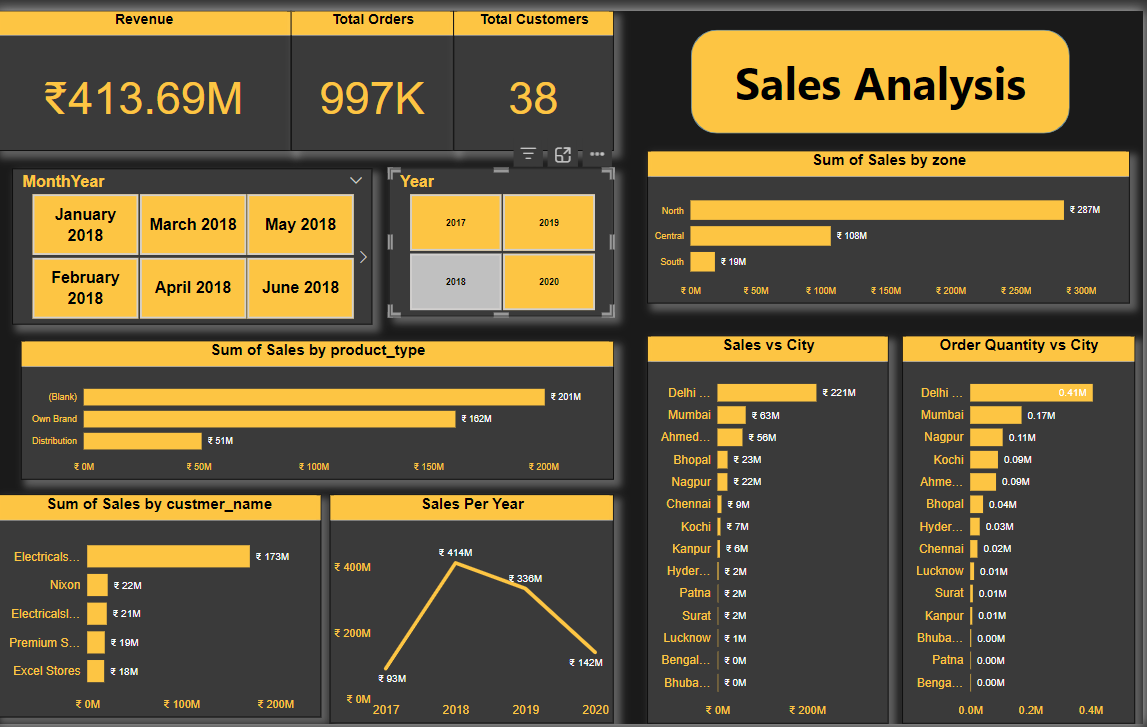

The dashboard page shown, as its layout file describes it:
{"tool":"powerbi","page":{"name":"Page 1","canvas":[1530,950],"ordinal":0},"visuals":[{"type":"card","title":"Revenue","fields":{"Values":["sales customers.Total_Revenue"]},"box":[0,0,393.3,186.7],"z":0},{"type":"card","title":"Total Orders ","fields":{"Values":["sales customers.Total_Quantity"]},"box":[393.3,0,216.7,186.7],"z":1000},{"type":"card","title":"Total Customers ","fields":{"Values":["sales customers.Total_Customers"]},"box":[610,0,213.3,186.7],"z":2000},{"type":"slicer","fields":{"Values":["sales date.Year"]},"box":[525,210,298.3,196.7],"z":3000},{"type":"slicer","fields":{"Values":["sales date.MonthYear"]},"box":[21.7,210,480,208.3],"z":4000},{"type":"barChart","title":"Sales vs City","fields":{"Category":["sales markets.markets_name"],"Y":["Sum(sales transactions.Normalised_currency)"]},"box":[868.3,433.3,321.7,516.7],"z":5000},{"type":"barChart","fields":{"Category":["sales customers.custmer_name"],"Y":["Sum(sales transactions.Sales)"]},"box":[0,645,433.3,296.7],"z":6000},{"type":"barChart","fields":{"Category":["sales products.product_type"],"Y":["Sum(sales transactions.Sales)"]},"box":[33.3,440,790,185],"z":7000},{"type":"barChart","fields":{"Category":["sales markets.zone"],"Y":["Sum(sales transactions.Sales)"]},"box":[868.3,186.7,643.3,203.3],"z":8000},{"type":"barChart","title":"Order Quantity vs City","fields":{"Category":["sales markets.markets_name"],"Y":["Sum(sales transactions.sales_qty)"]},"box":[1208.3,433.3,310,516.7],"z":9000},{"type":"lineChart","title":"Sales Per Year ","fields":{"Y":["Sum(sales transactions.Sales)"],"Category":["sales date.date.Variation.Date Hierarchy.Year","sales date.date.Variation.Date Hierarchy.Quarter","sales date.date.Variation.Date Hierarchy.Month","sales date.date.Variation.Date Hierarchy.Day"]},"box":[445,645,378.3,305],"z":10000},{"type":"shape","box":[926.7,25,505,138.3],"z":10001}]}

Visuals, with their boxes in screenshot pixels (x1, y1, x2, y2), scaled from the page's 1530x950 canvas onto the 1147x727 screenshot:
"Revenue" card: (x1=0, y1=0, x2=295, y2=143)
"Total Orders " card: (x1=295, y1=0, x2=457, y2=143)
"Total Customers " card: (x1=457, y1=0, x2=617, y2=143)
slicer - sales date.Year: (x1=394, y1=161, x2=617, y2=311)
slicer - sales date.MonthYear: (x1=16, y1=161, x2=376, y2=320)
"Sales vs City" barChart: (x1=651, y1=332, x2=892, y2=726)
barChart - sales customers.custmer_name x Sum(sales transactions.Sales): (x1=0, y1=494, x2=325, y2=721)
barChart - sales products.product_type x Sum(sales transactions.Sales): (x1=25, y1=337, x2=617, y2=478)
barChart - sales markets.zone x Sum(sales transactions.Sales): (x1=651, y1=143, x2=1133, y2=298)
"Order Quantity vs City" barChart: (x1=906, y1=332, x2=1138, y2=726)
"Sales Per Year " lineChart: (x1=334, y1=494, x2=617, y2=726)
shape: (x1=695, y1=19, x2=1073, y2=125)
